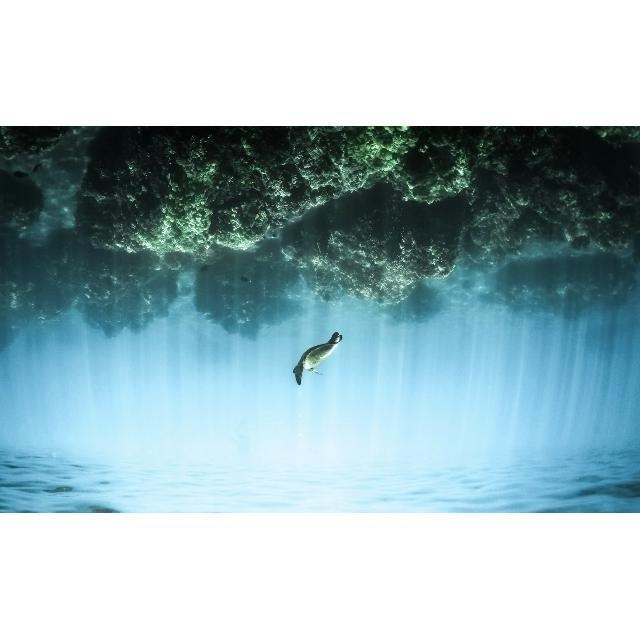turtle: (292, 330, 342, 386)
